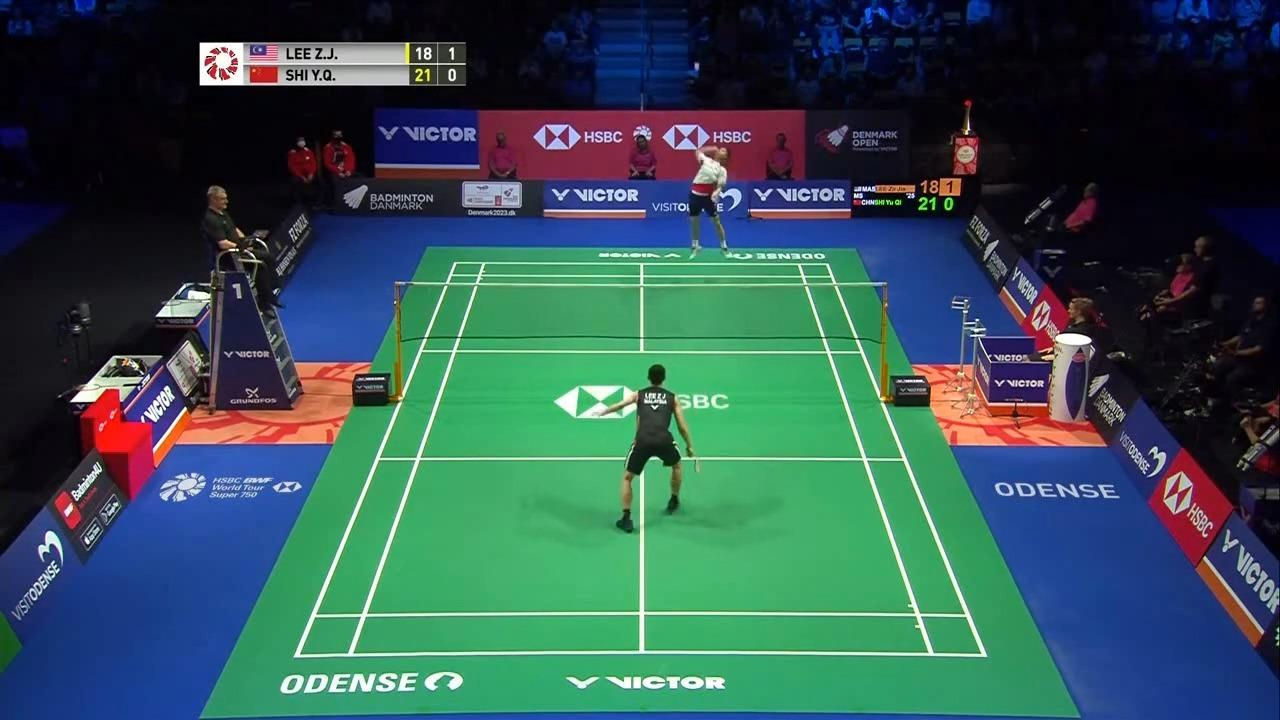shuttle: (682, 138, 732, 255), (694, 60, 702, 71)
